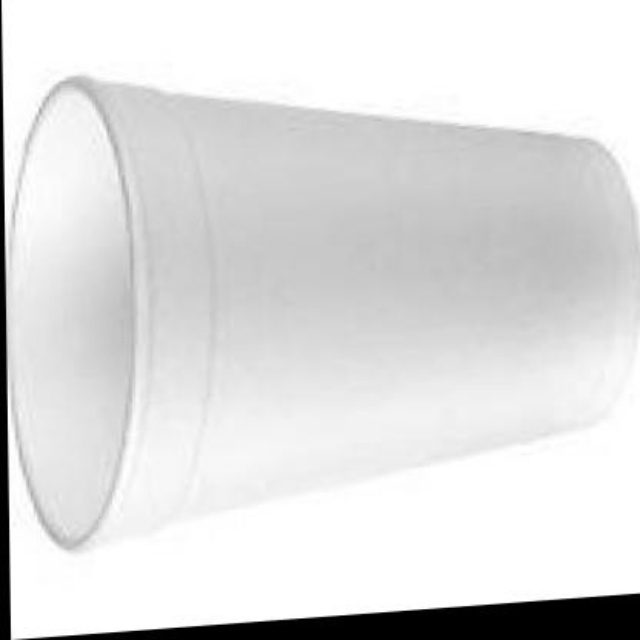trash: (8, 78, 637, 546)
